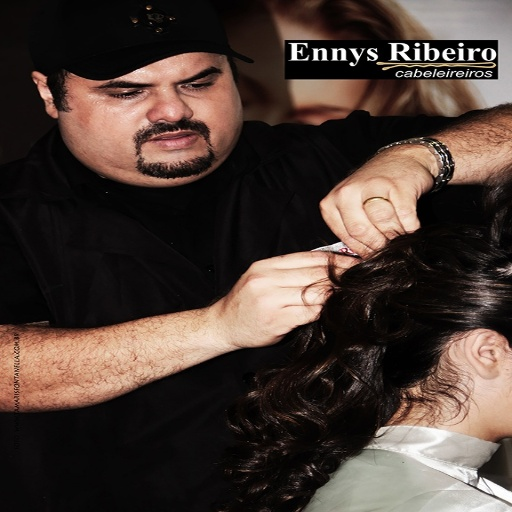hand: (8, 242, 368, 413), (318, 149, 440, 260)
